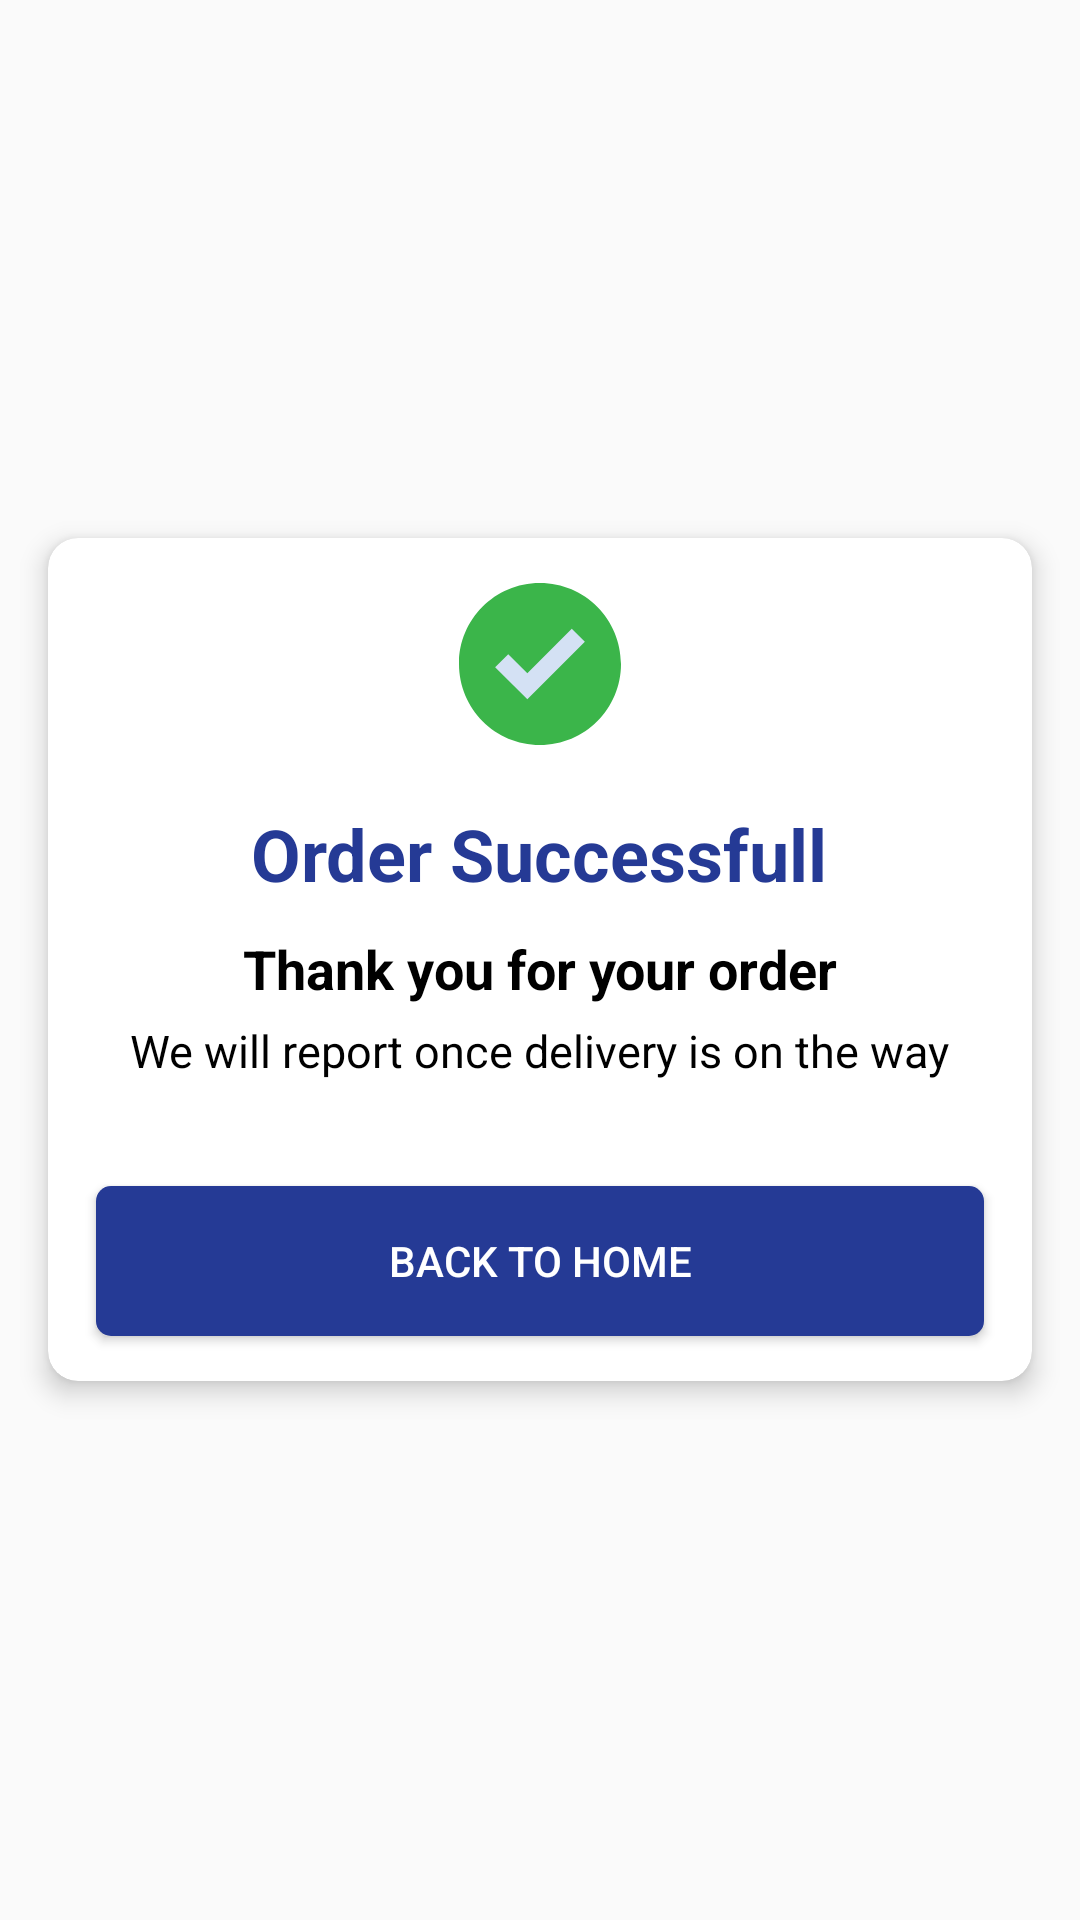

Icons on this 1080px×1920px Android screen, each with the point to tap as (x,y):
check: (540,664)
